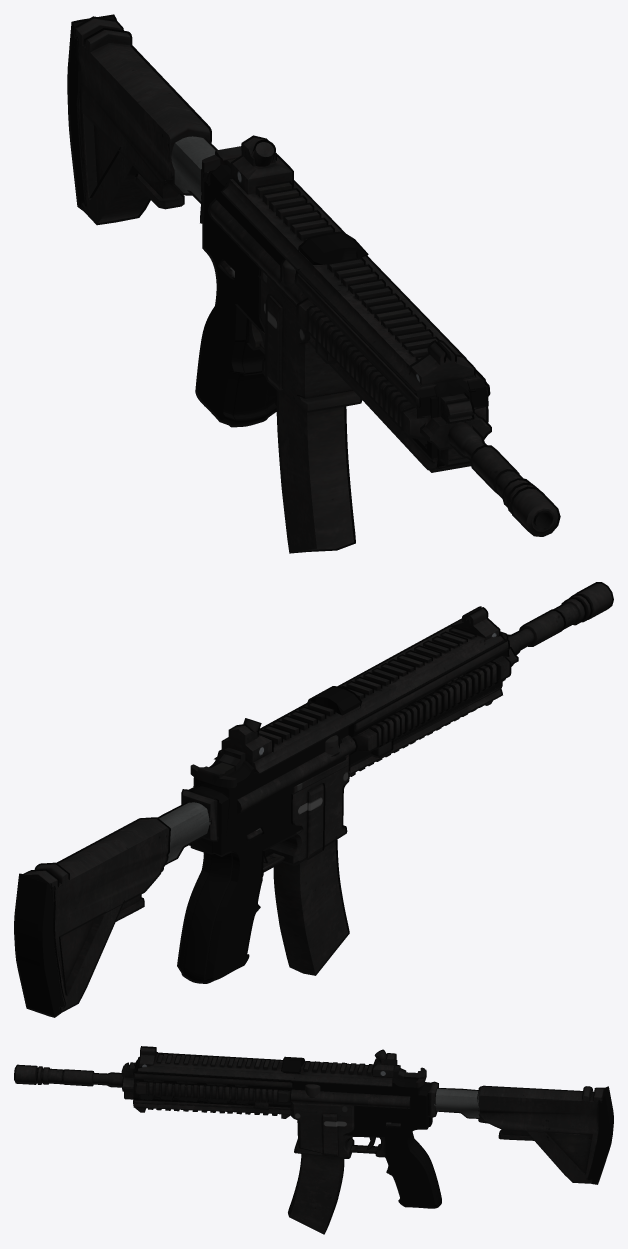
The model's file is toon_m416.glb.
The picture shows the model from 3 angles, top to bottom: view 1: azimuth 30°, elevation 25°; view 2: azimuth 150°, elevation 25°; view 3: azimuth 270°, elevation 25°; orthographic projection. The views are drawn at different scales.
Visible parts, largest first — view 1: m416_0, mag_1; view 2: m416_0, mag_1, reload_2; view 3: m416_0, mag_1.
Boxes of the visible parts, x1,y1,x2,y2 form: m416_0: (67, 14, 560, 536); mag_1: (276, 390, 355, 553); m416_0: (14, 582, 613, 1017); mag_1: (273, 840, 349, 975); reload_2: (190, 762, 236, 787); m416_0: (14, 1046, 613, 1208); mag_1: (288, 1154, 344, 1234).
Size of the model in its own units: 0.8587 by 1.69 by 5.
2 materials, 1 textured.
